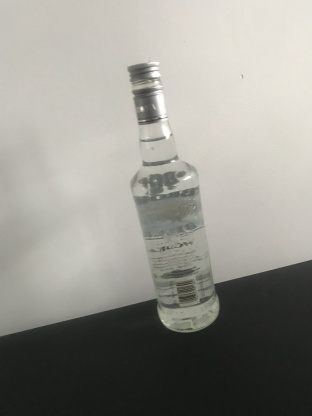nakretka: (124, 60, 168, 126)
